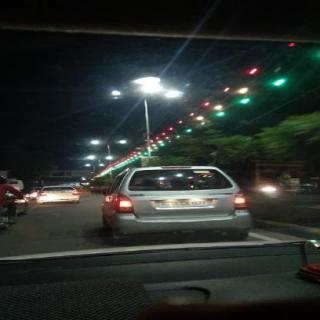Normal_vehicle: (102, 166, 252, 239)
